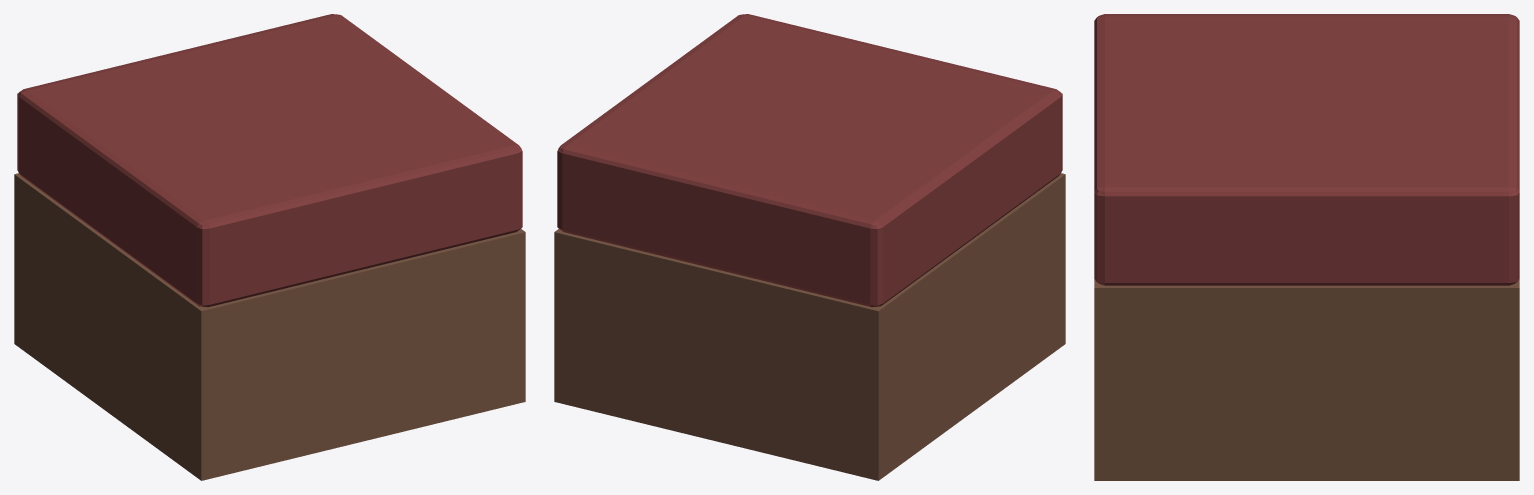
File: seat.obj
The picture shows the model from 3 angles, left to right: view 1: azimuth 30°, elevation 25°; view 2: azimuth 150°, elevation 25°; view 3: azimuth 270°, elevation 25°; orthographic projection. The views are drawn at different scales.
Parts seen in each view (by area): view 1: cushion_mesh_Cube.001, seat_mesh_Cube.002; view 2: cushion_mesh_Cube.001, seat_mesh_Cube.002; view 3: cushion_mesh_Cube.001, seat_mesh_Cube.002.
Part boxes in pixels (x1,y1,x2,y2): cushion_mesh_Cube.001: [17, 14, 522, 307]; seat_mesh_Cube.002: [14, 173, 525, 480]; cushion_mesh_Cube.001: [557, 14, 1062, 307]; seat_mesh_Cube.002: [554, 173, 1065, 480]; cushion_mesh_Cube.001: [1094, 14, 1519, 285]; seat_mesh_Cube.002: [1094, 279, 1519, 480].
Bounding box in the file's own units: 0.375 × 0.2814 × 0.375.
